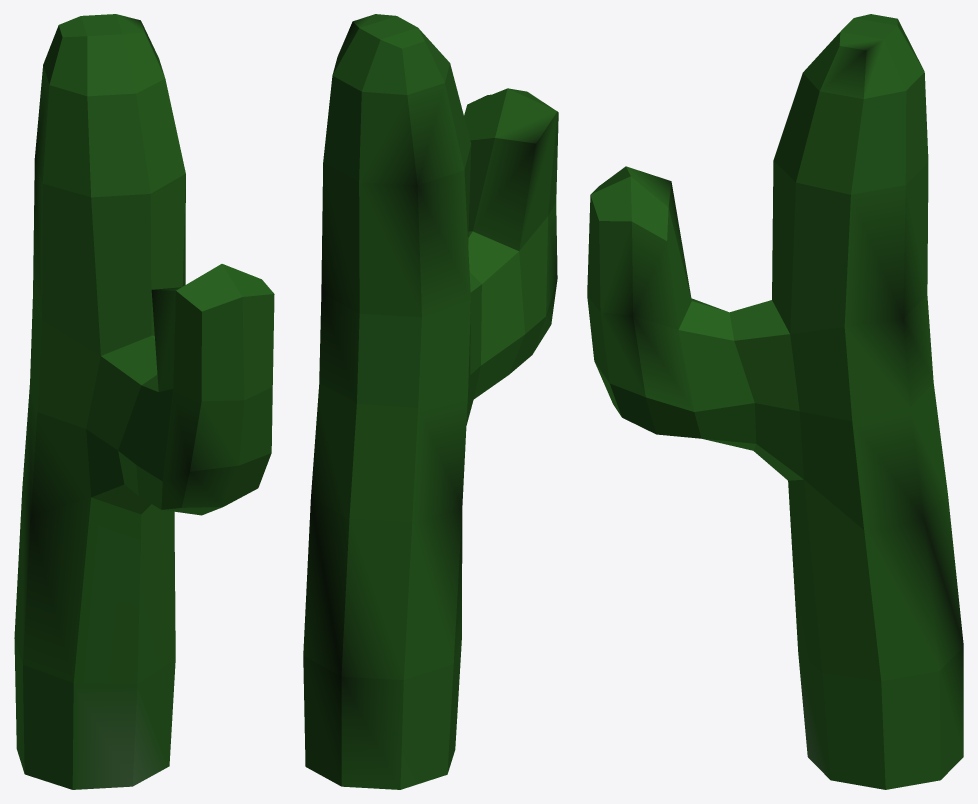
File: Cacto1.fbx
3 renders of one model, left to right at view 1: azimuth 30°, elevation 25°; view 2: azimuth 150°, elevation 25°; view 3: azimuth 270°, elevation 25°, orthographic.
Visible parts, largest first — view 1: LOD_0; view 2: LOD_0; view 3: LOD_0.
Part boxes in pixels (<box>): LOD_0: <box>14,14,274,789</box>; LOD_0: <box>303,14,558,789</box>; LOD_0: <box>587,14,963,789</box>.
Size of what is drawn, in the model's own units: 84.15 by 408 by 191.
